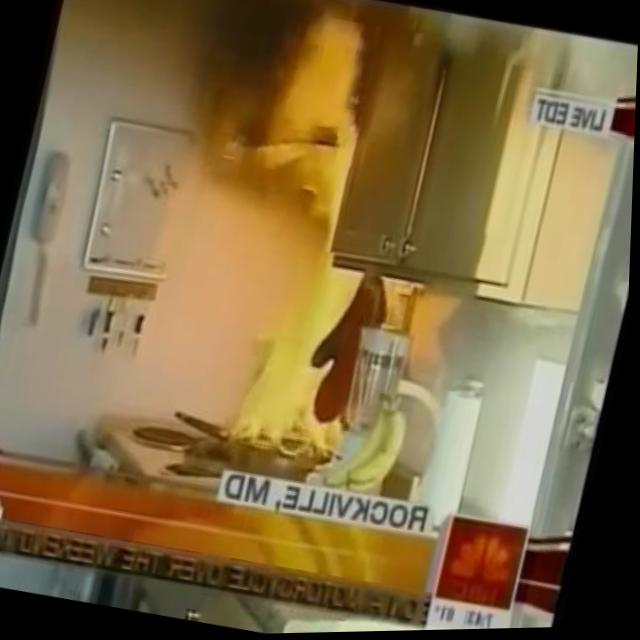fire: (174, 1, 467, 472)
